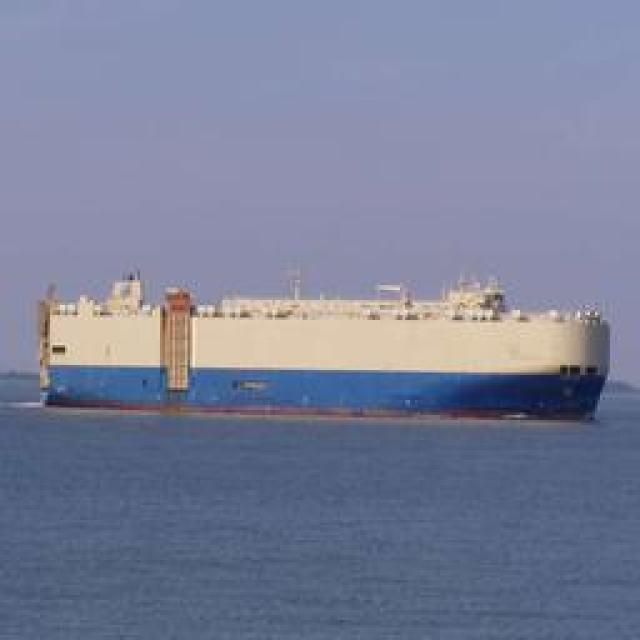CIV_Ship: (38, 270, 600, 420)
